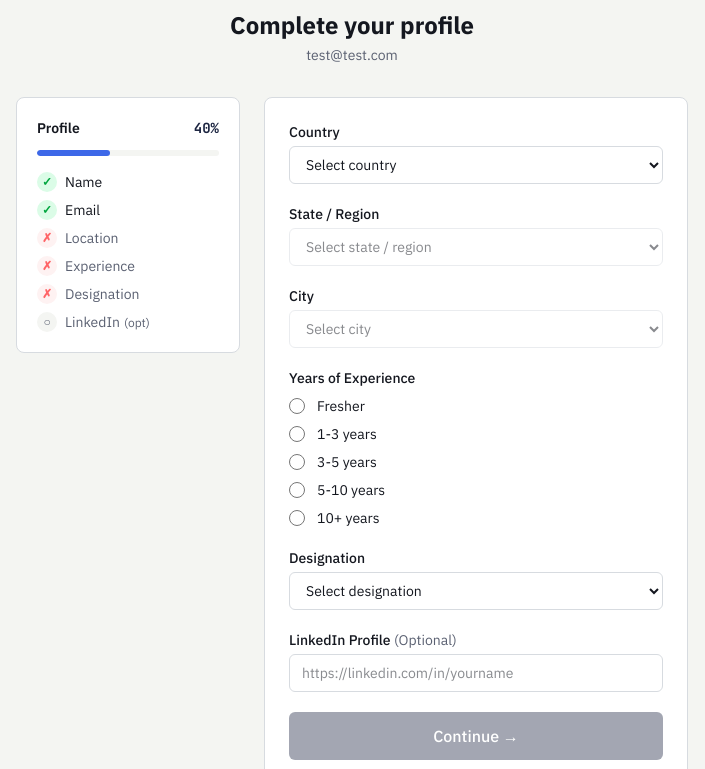
CompleteProfilePage › progress increases to 60% after filling all location fields
This screenshot has width=705, height=769.
Select "India" in the dropdown named "Country" at (476, 165), box x1=289 y1=146 x2=663 y2=184
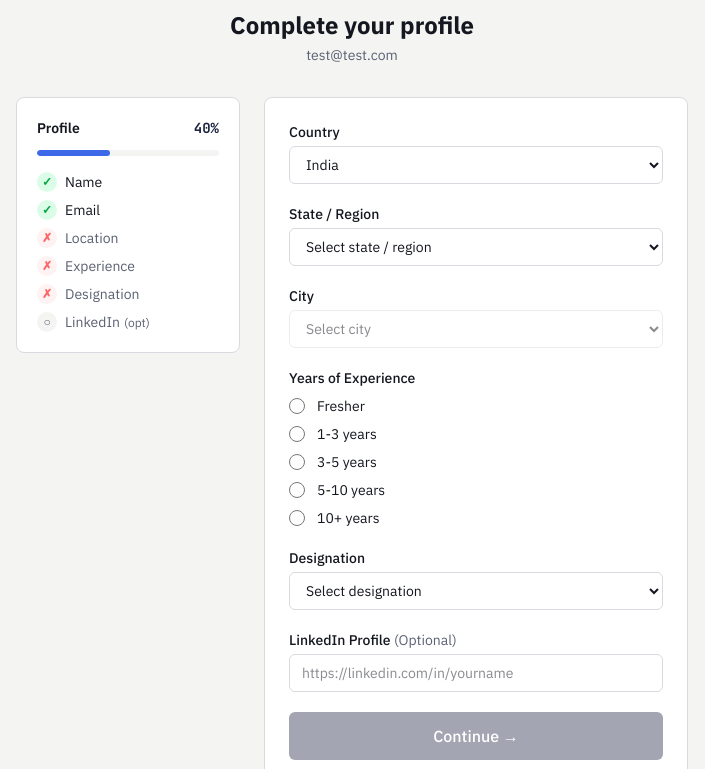
Select "Telangana" in the dropdown named "State or Region" at (476, 247), box x1=289 y1=228 x2=663 y2=266
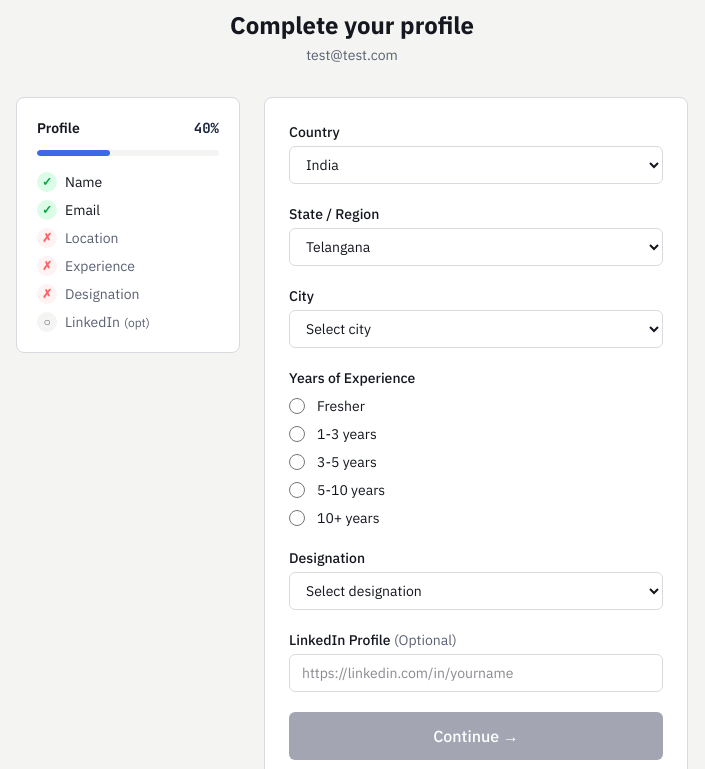
Select "Hyderabad" in the dropdown named "City" at (476, 329), box x1=289 y1=310 x2=663 y2=348
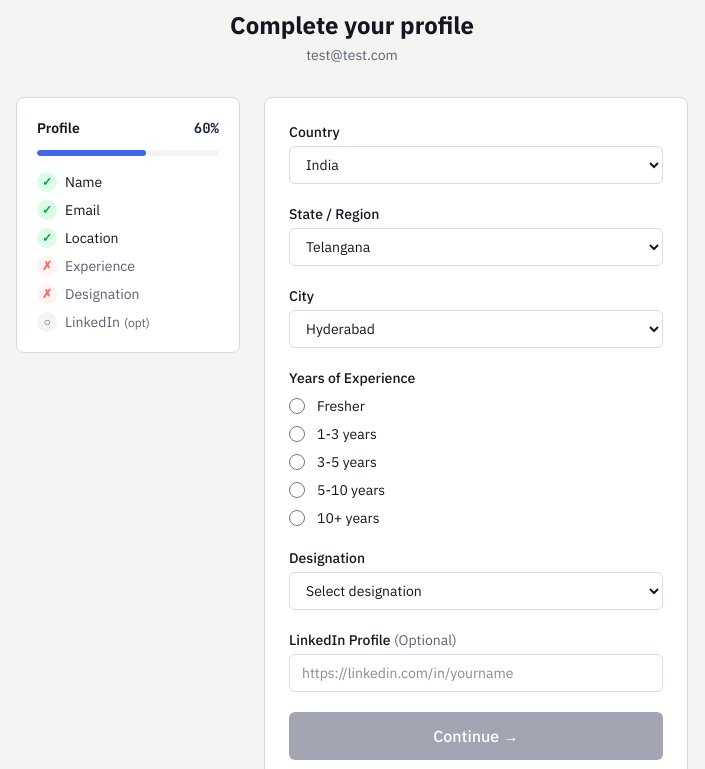
Result: the text with test id "progress-percent" reads "60%" at x1=194 y1=118 x2=219 y2=138
